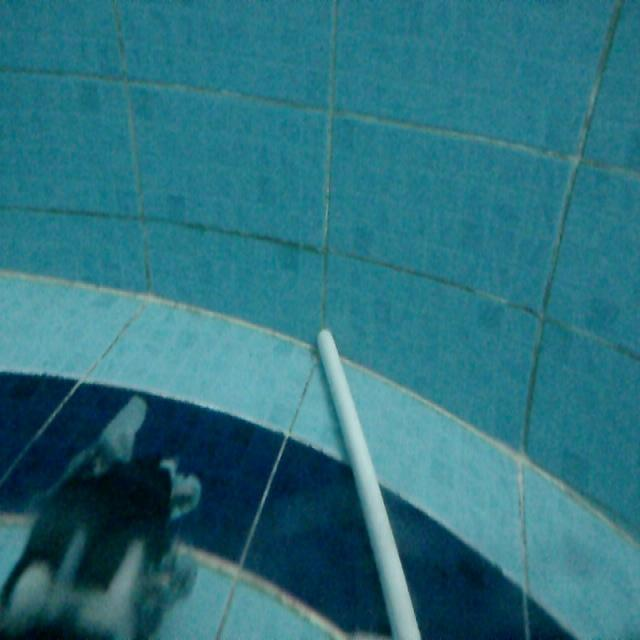Cube: (310, 321, 431, 639)
